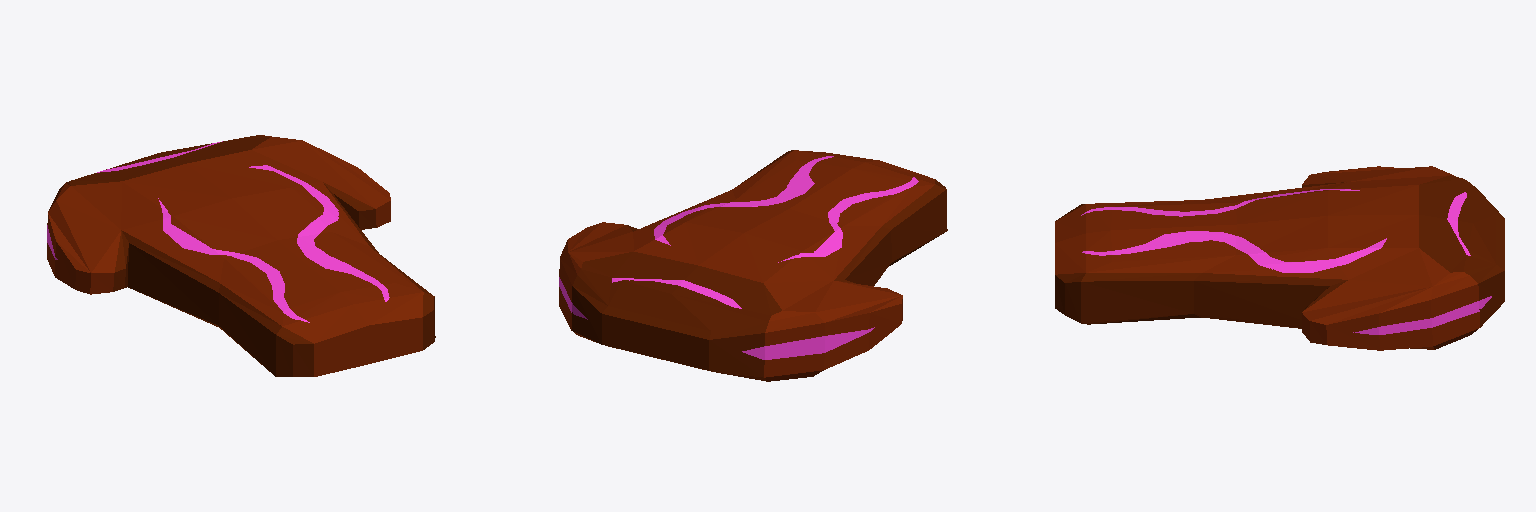
File: FaeTunic.obj
3 renders of one model, left to right at view 1: azimuth 30°, elevation 25°; view 2: azimuth 150°, elevation 25°; view 3: azimuth 270°, elevation 25°, orthographic.
Visible parts, largest first — view 1: FaeTunic; view 2: FaeTunic; view 3: FaeTunic.
Part boxes in pixels (left/top/right/bottom): FaeTunic: left=47, top=135, right=435, bottom=376; FaeTunic: left=559, top=150, right=947, bottom=381; FaeTunic: left=1055, top=166, right=1504, bottom=350.
Bounding box in the file's own units: 0.7995 × 0.2011 × 0.9913.